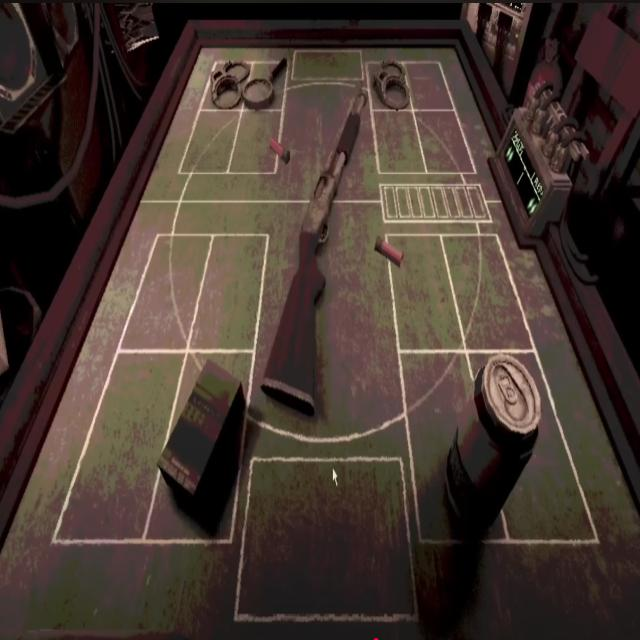can: (445, 353, 541, 538)
cigar: (158, 360, 245, 535)
handcuff: (201, 61, 250, 109), (373, 61, 409, 110)
lens: (242, 58, 287, 109)
